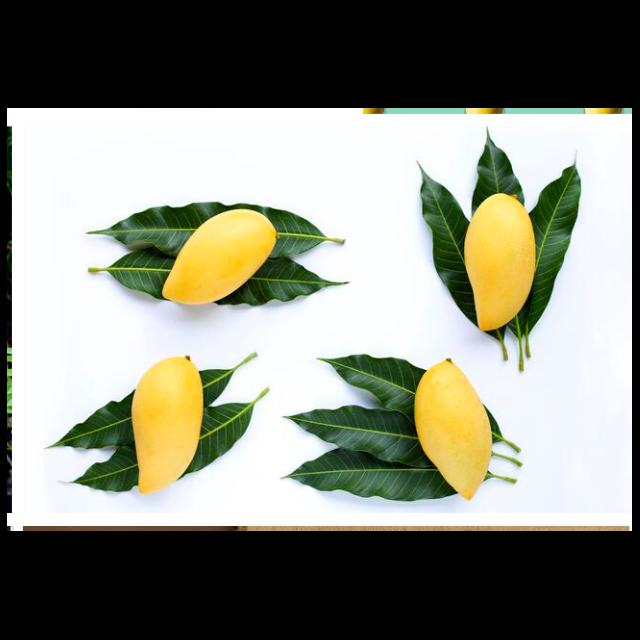mango: (159, 207, 281, 308), (415, 359, 493, 503), (132, 354, 205, 496), (464, 194, 537, 331)
